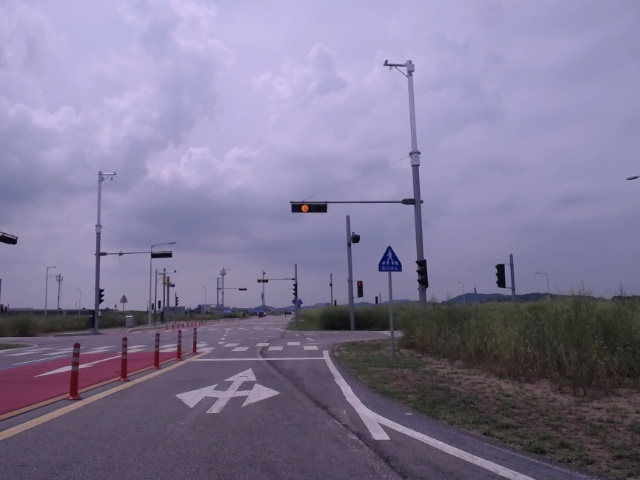orange_4: (290, 201, 328, 214), (257, 278, 270, 284)
